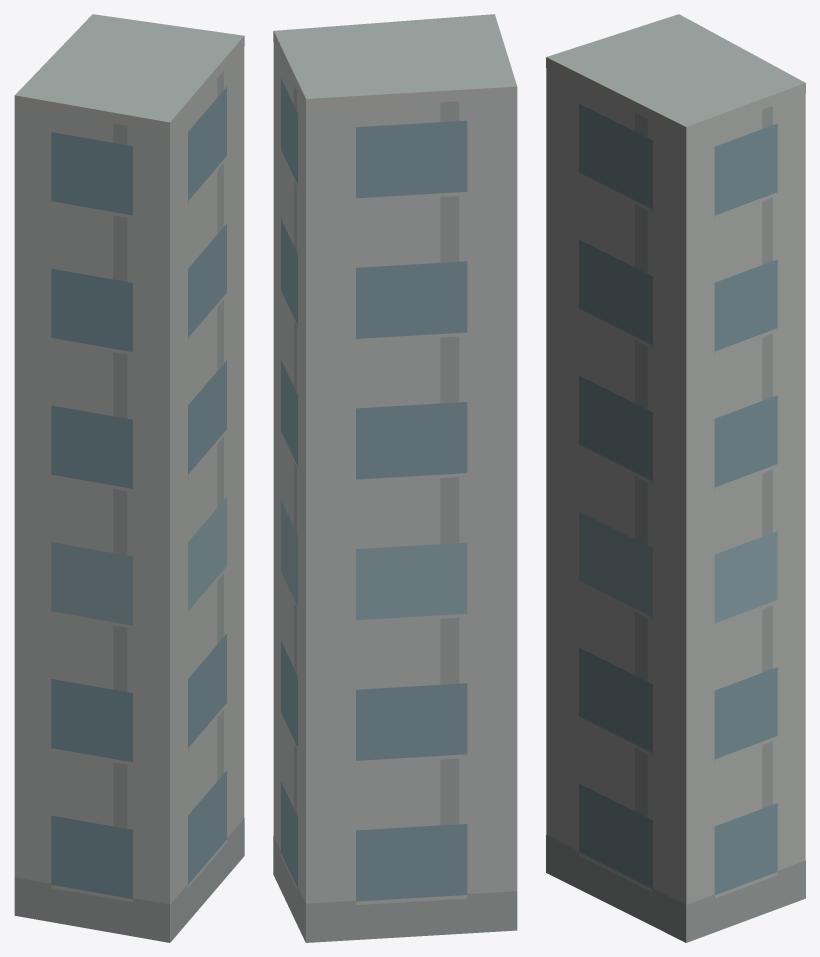
The model's file is survey-upis-32940273.glb.
3 views of the same model, side by side, from view 1: azimuth 30°, elevation 25°; view 2: azimuth 150°, elevation 25°; view 3: azimuth 270°, elevation 25° (orthographic). The views are drawn at different scales.
Visible parts, largest first — view 1: survey-upis-32940273.tmp; view 2: survey-upis-32940273.tmp; view 3: survey-upis-32940273.tmp.
Boxes of the visible parts, box(x1,y1,x2,y2) form: survey-upis-32940273.tmp: box(14, 14, 244, 942); survey-upis-32940273.tmp: box(273, 14, 517, 942); survey-upis-32940273.tmp: box(546, 14, 805, 942).
Bounding box in the file's own units: 5.45 × 18.3 × 5.28.
